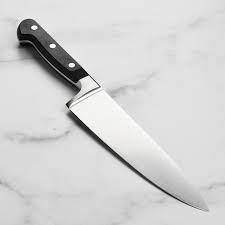Knife: (16, 17, 209, 212)
